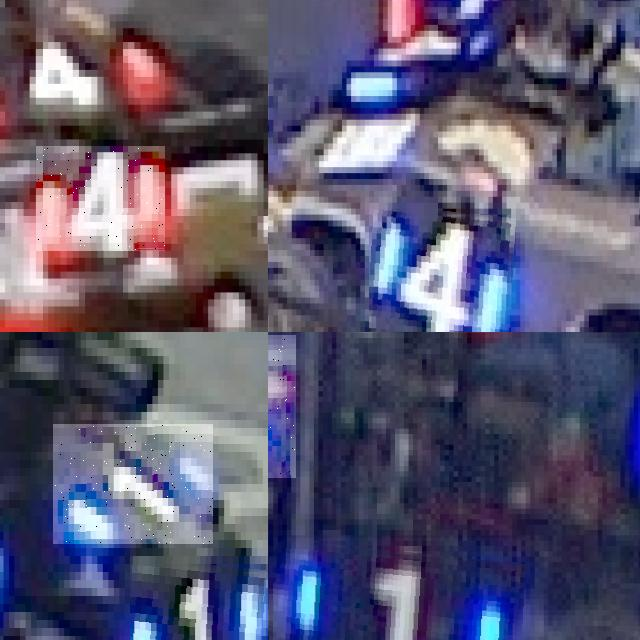B1: (273, 537, 525, 640), (53, 424, 213, 544), (130, 556, 268, 640), (268, 335, 295, 479)
B4: (369, 202, 515, 332)
R4: (36, 146, 165, 251)
